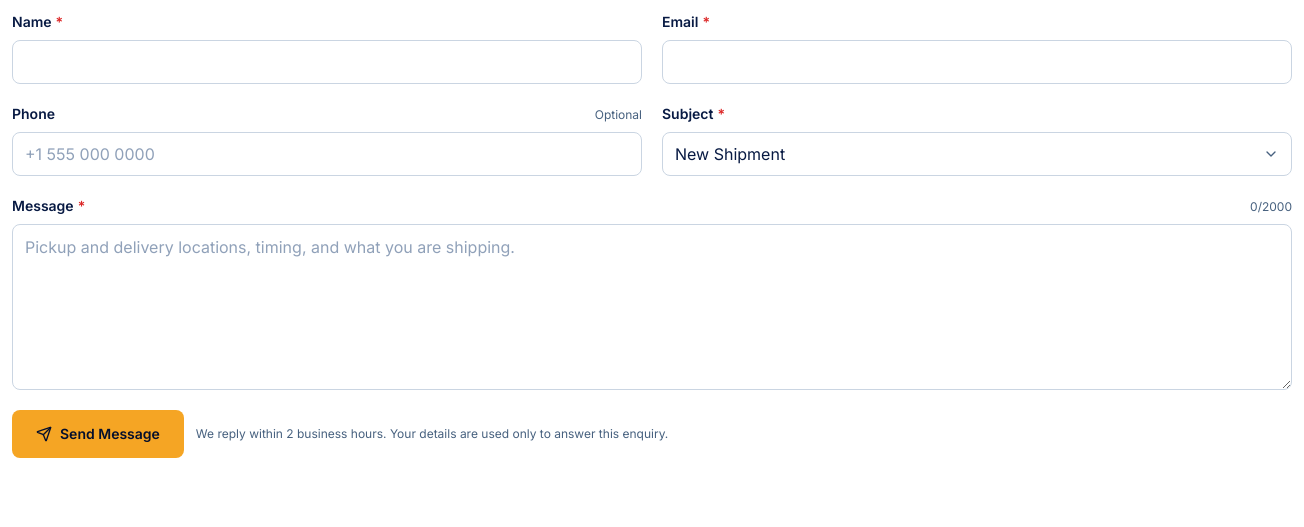
Test: ContactForm › blocks submission and reports errors when required fields are empty
The image size is (1304, 527).
Click the button "Send Message": click(98, 434) [12, 410, 184, 458]
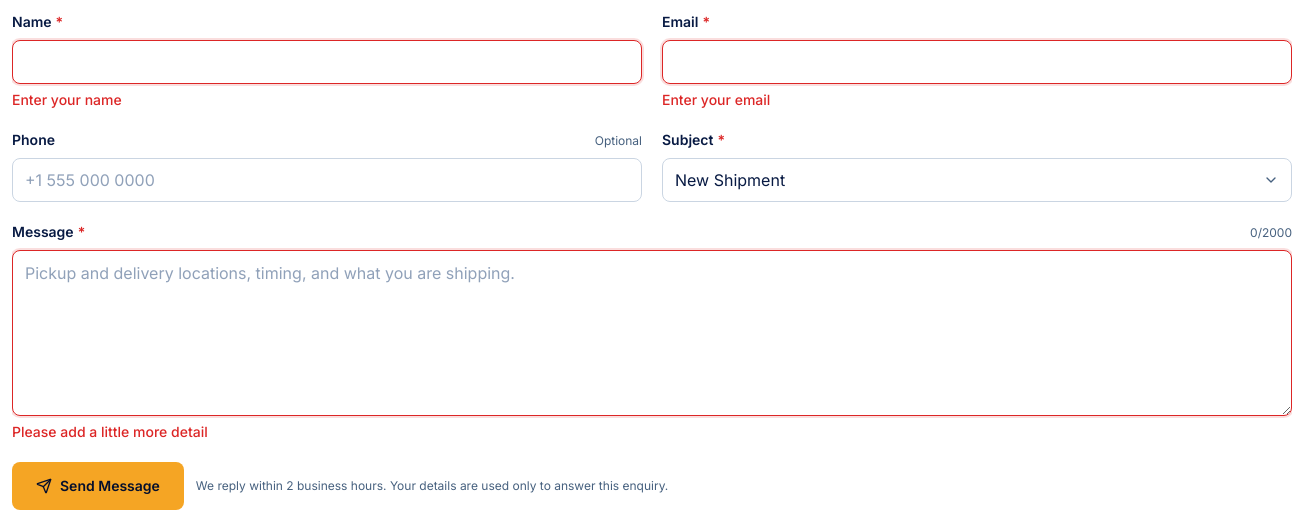
Expected: the text "Enter your name" is shown, [12, 91, 122, 108]
